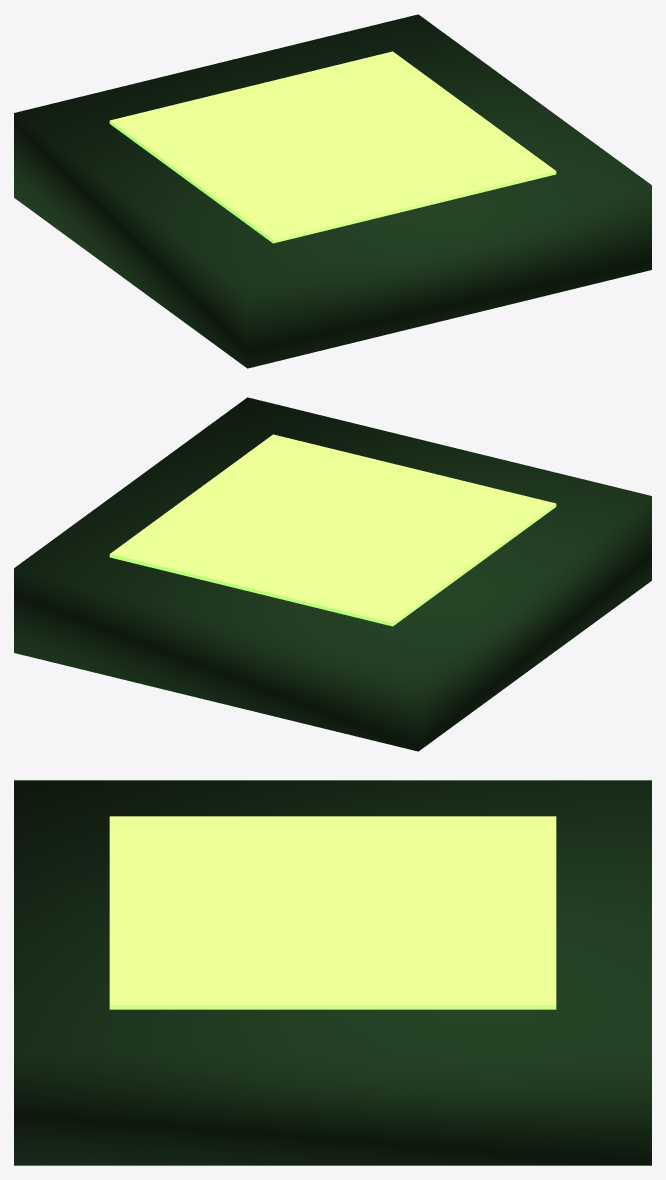
Rendered from disco_cyber_pong.glb.
The picture shows the model from 3 angles, top to bottom: view 1: azimuth 30°, elevation 25°; view 2: azimuth 150°, elevation 25°; view 3: azimuth 270°, elevation 25°; orthographic projection. The views are drawn at different scales.
Visible parts, largest first — view 1: Cube, Cube.001; view 2: Cube, Cube.001; view 3: Cube, Cube.001.
Boxes of the visible parts, x1=… form: Cube: x1=14, y1=14, x2=651, y2=368; Cube.001: x1=109, y1=51, x2=556, y2=243; Cube: x1=14, y1=397, x2=651, y2=751; Cube.001: x1=109, y1=434, x2=556, y2=626; Cube: x1=14, y1=780, x2=651, y2=1165; Cube.001: x1=109, y1=816, x2=556, y2=1009.
Size of the model in its own units: 0.075 by 0.0162 by 0.075.
